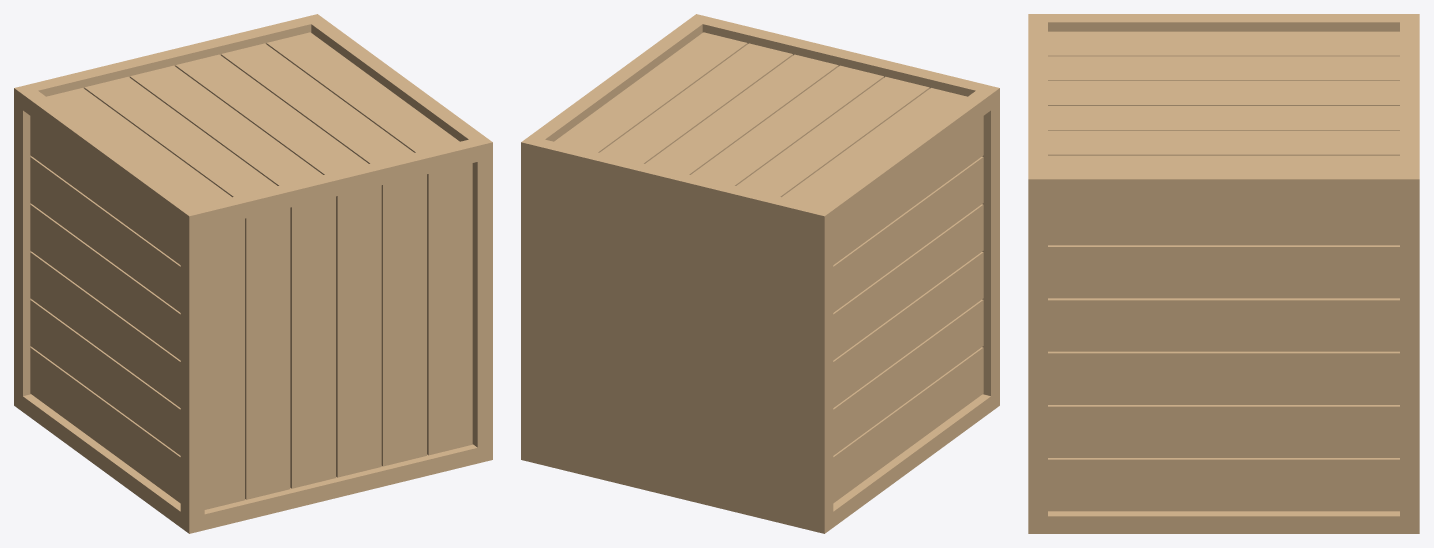
File: woodbox.obj
3 views of the same model, side by side, from view 1: azimuth 30°, elevation 25°; view 2: azimuth 150°, elevation 25°; view 3: azimuth 270°, elevation 25° (orthographic). The views are drawn at different scales.
Visible parts, largest first — view 1: obj_0; view 2: obj_0; view 3: obj_0.
Boxes of the visible parts, x1,y1,x2,y2 form: obj_0: [14, 14, 492, 533]; obj_0: [521, 14, 999, 533]; obj_0: [1028, 14, 1419, 533].
Bounding box in the file's own units: 15 × 15 × 15.
